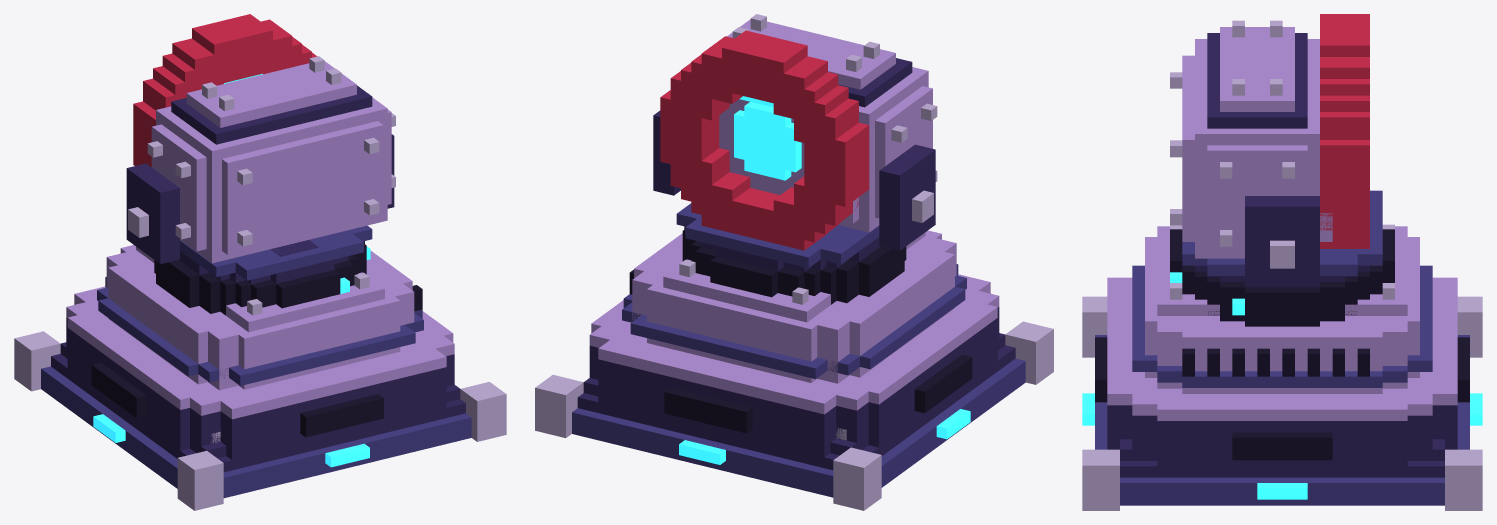
File: tractor-projector.md.glb
The picture shows the model from 3 angles, left to right: view 1: azimuth 30°, elevation 25°; view 2: azimuth 150°, elevation 25°; view 3: azimuth 270°, elevation 25°; orthographic projection. The views are drawn at different scales.
Parts seen in each view (by area): view 1: tractor-projector.md; view 2: tractor-projector.md; view 3: tractor-projector.md.
Part boxes in pixels (left/top/right/bottom): tractor-projector.md: left=14, top=14, right=506, bottom=510; tractor-projector.md: left=535, top=14, right=1053, bottom=510; tractor-projector.md: left=1082, top=14, right=1482, bottom=510.
Bounding box in the file's own units: 2 × 2.19 × 2.
